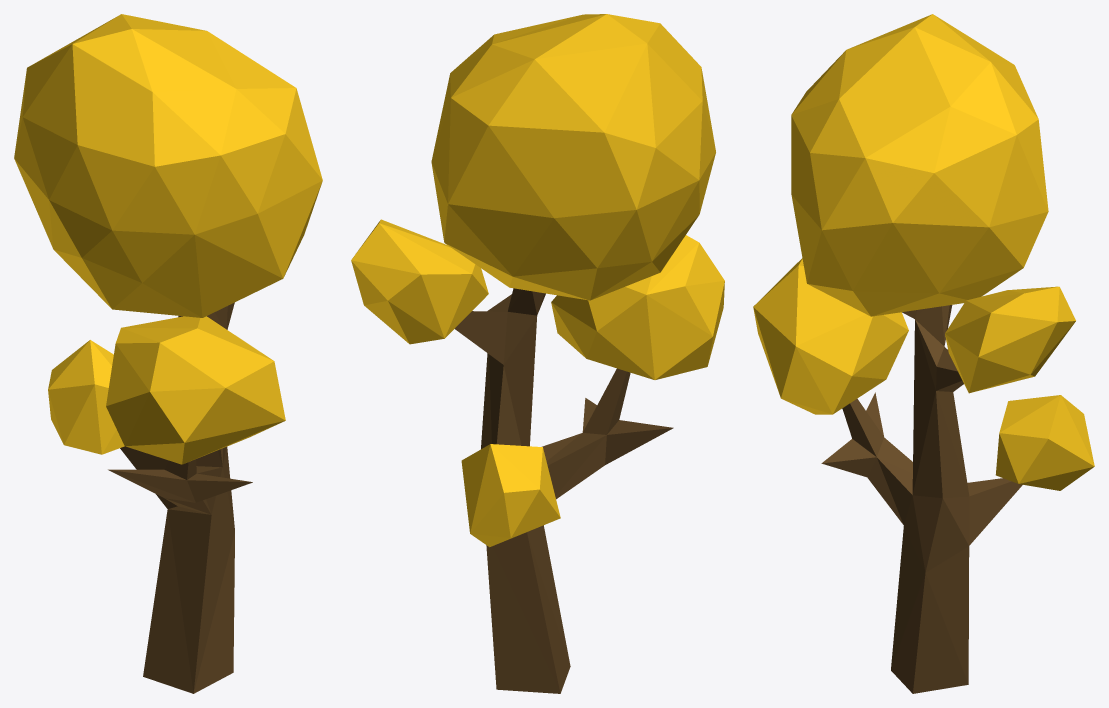
Rendered from temp-decid.moderate.yellow-op0.5.gltf.
The picture shows the model from 3 angles, left to right: view 1: azimuth 30°, elevation 25°; view 2: azimuth 150°, elevation 25°; view 3: azimuth 270°, elevation 25°; orthographic projection. The views are drawn at different scales.
Parts seen in each view (by area): view 1: Tree1_2; view 2: Tree1_2; view 3: Tree1_2.
Part boxes in pixels (x1=…): Tree1_2: x1=14, y1=14, x2=322, y2=693; Tree1_2: x1=351, y1=14, x2=724, y2=693; Tree1_2: x1=753, y1=14, x2=1094, y2=693.
Size of the model in its own units: 2.65 by 5.94 by 2.96.
Materials: 1 (1 with a texture image).
